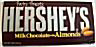grozi_10: (0, 0, 96, 47)
